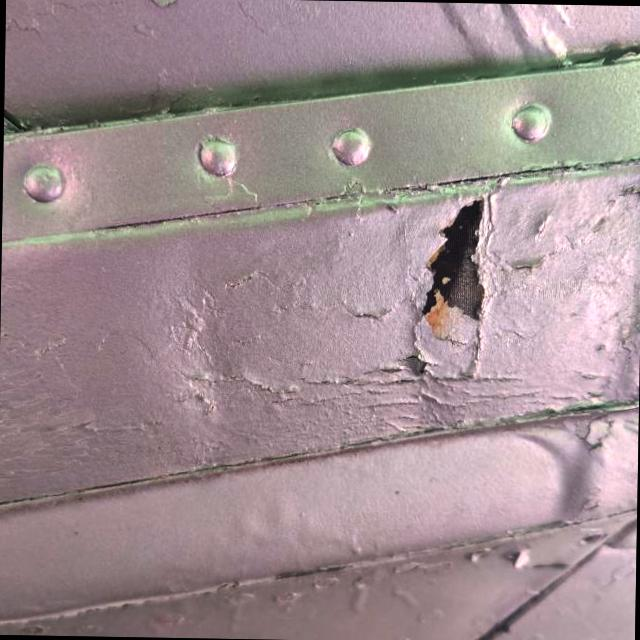crack: (407, 186, 517, 336)
